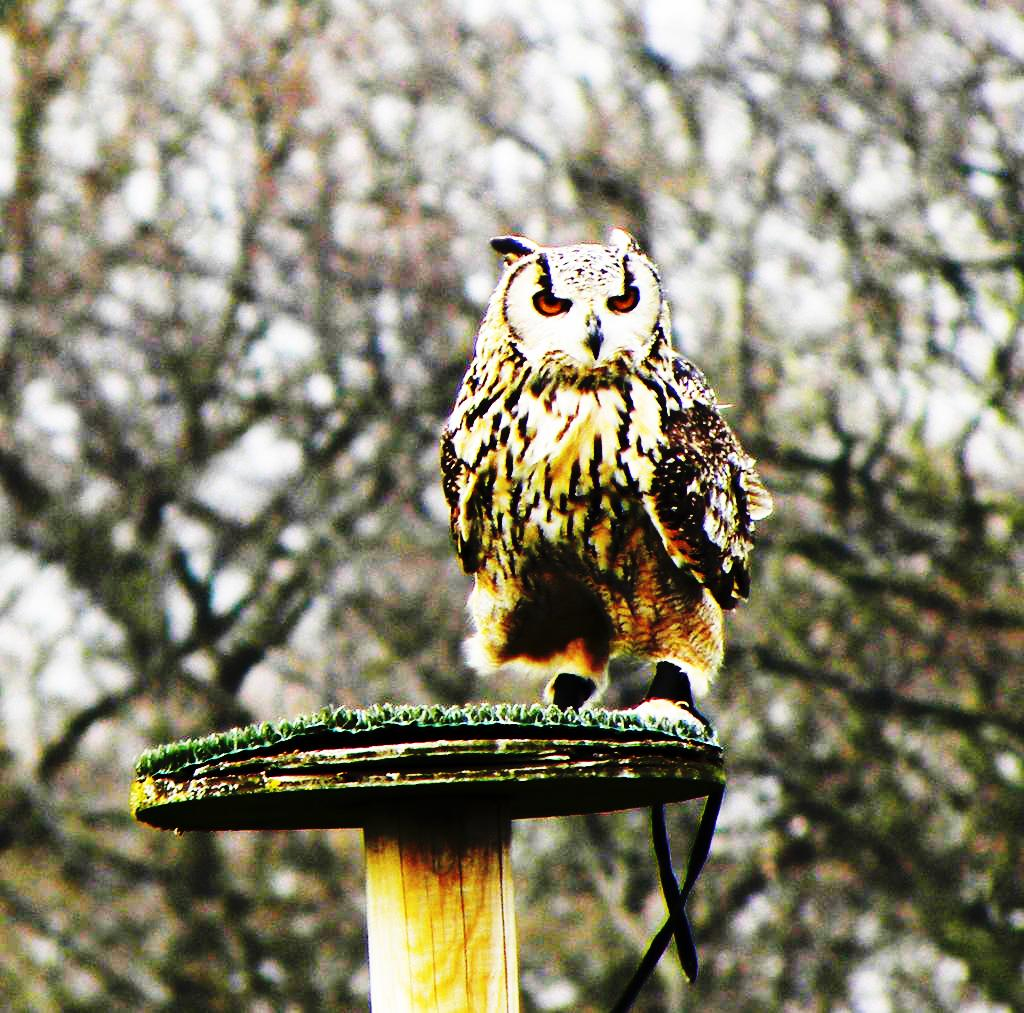Owl: (442, 232, 780, 723)
